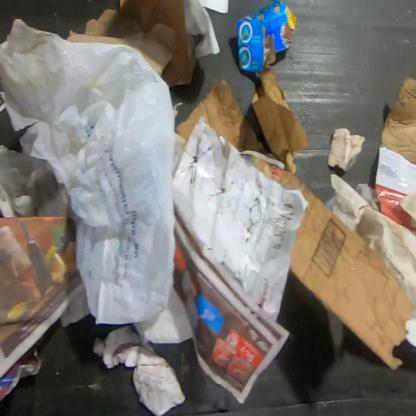cardboard: (176, 75, 416, 372), (64, 0, 198, 88), (251, 61, 309, 176), (236, 0, 297, 73), (379, 76, 415, 169)
soft_plastic: (0, 20, 176, 326)
